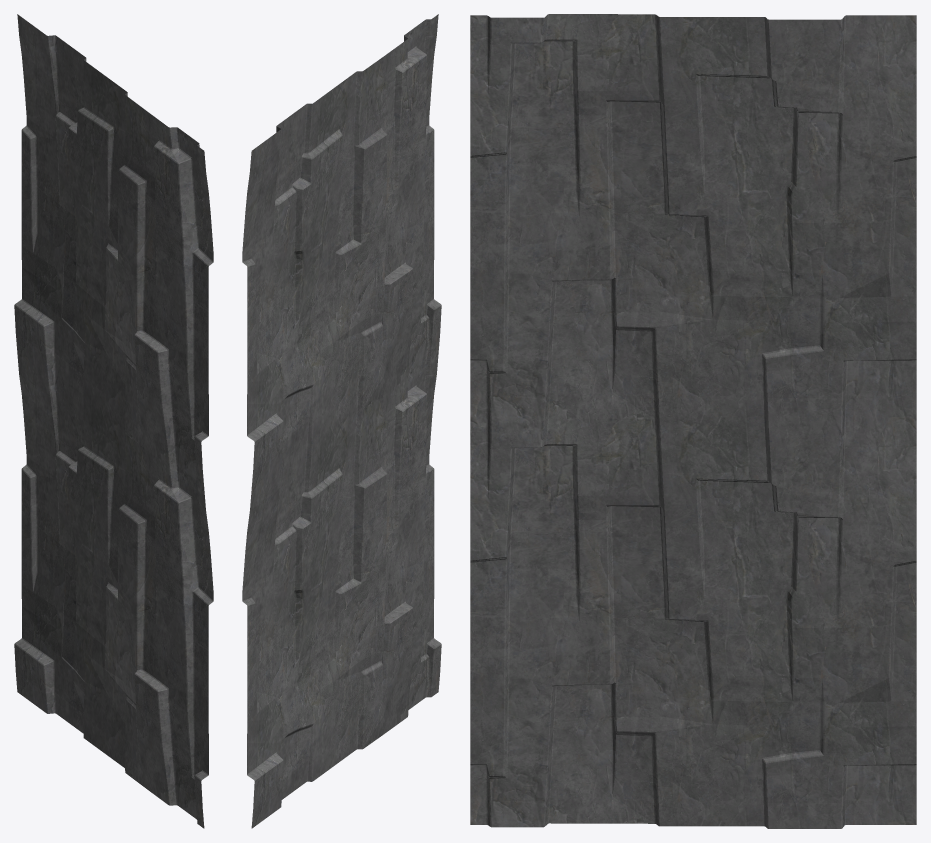
The model's file is CaveWallM.fbx.
3 views of the same model, side by side, from view 1: azimuth 30°, elevation 25°; view 2: azimuth 150°, elevation 25°; view 3: azimuth 270°, elevation 25° (orthographic). The views are drawn at different scales.
Visible parts, largest first — view 1: SM_ENV_NATURE_Cave_Wall_L_Half_03.mo; view 2: SM_ENV_NATURE_Cave_Wall_L_Half_03.mo; view 3: SM_ENV_NATURE_Cave_Wall_L_Half_03.mo.
Boxes of the visible parts, left/top/right/bottom form: SM_ENV_NATURE_Cave_Wall_L_Half_03.mo: left=14, top=14, right=213, bottom=828; SM_ENV_NATURE_Cave_Wall_L_Half_03.mo: left=242, top=14, right=441, bottom=828; SM_ENV_NATURE_Cave_Wall_L_Half_03.mo: left=470, top=14, right=916, bottom=828.
Size of the model in its own units: 52.19 by 1640 by 820.
Materials: 1 (1 with a texture image).
